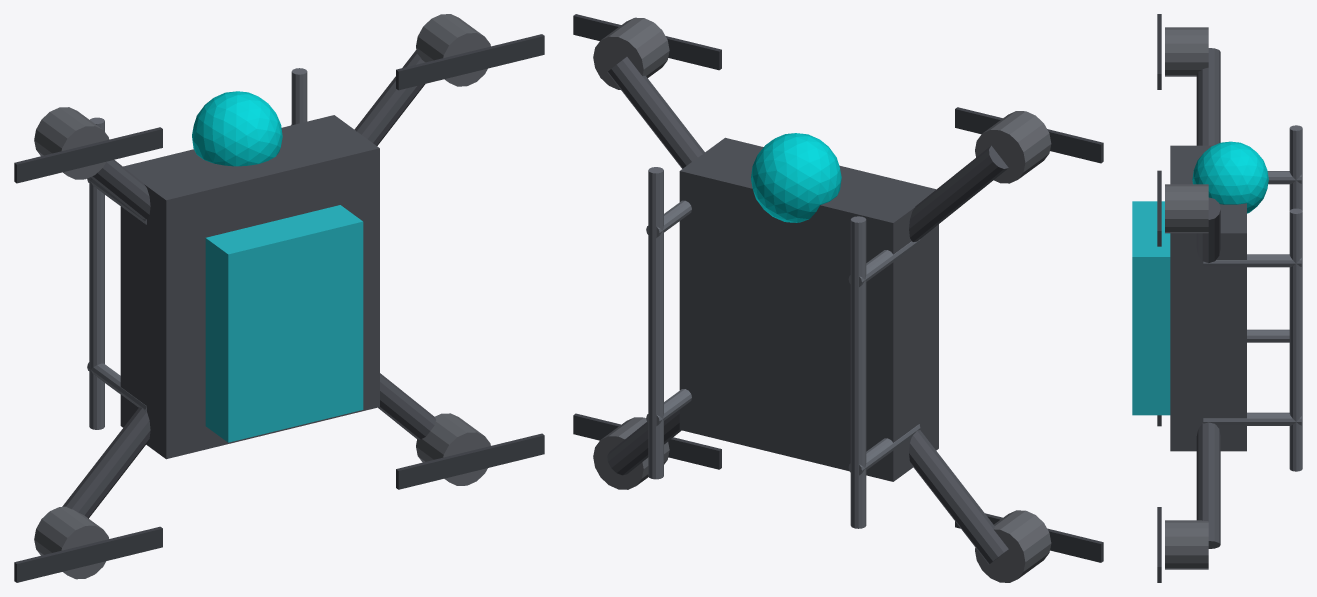
The model's file is drone_quadcopter.glb.
3 views of the same model, side by side, from view 1: azimuth 30°, elevation 25°; view 2: azimuth 150°, elevation 25°; view 3: azimuth 270°, elevation 25° (orthographic). The views are drawn at different scales.
Parts seen in each view (by area): view 1: world; view 2: world; view 3: world.
Boxes of the visible parts, box(x1,y1,x2,y2) form: world: box(14, 14, 544, 582); world: box(573, 14, 1103, 582); world: box(1132, 14, 1302, 582).
Bounding box in the file's own units: 0.9388 × 0.7688 × 0.312.
